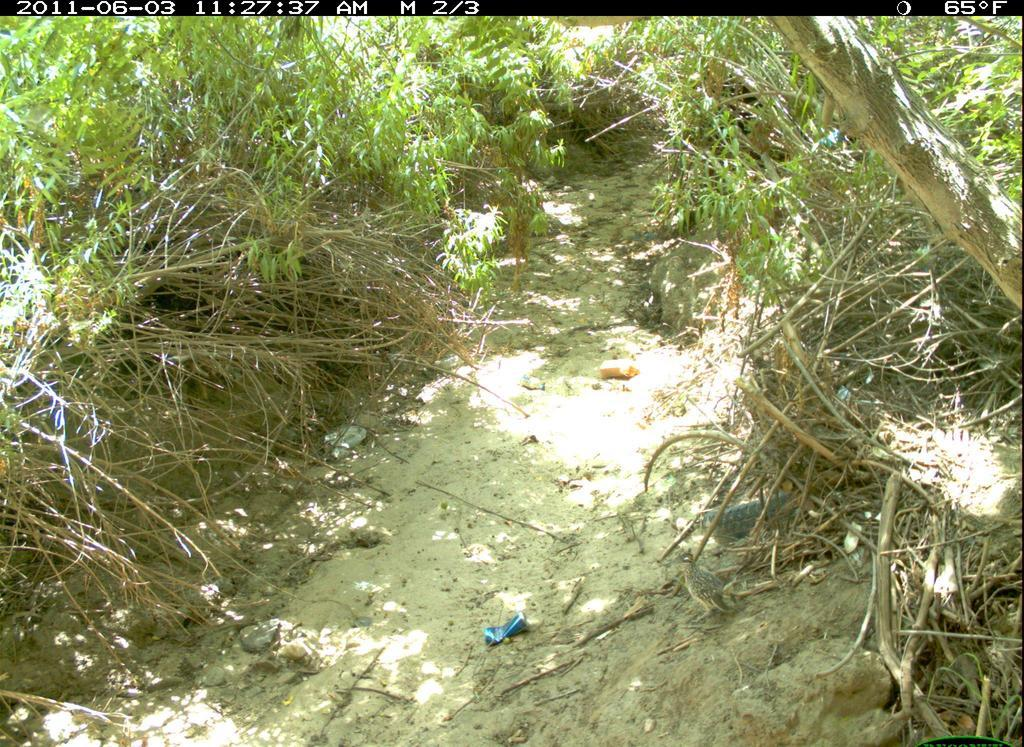bird: (673, 549, 740, 622)
